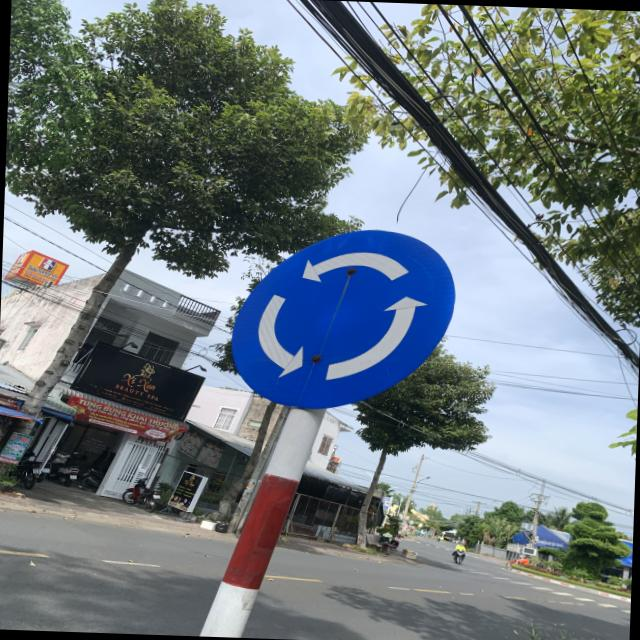Xe_Bus: (227, 224, 458, 414)
